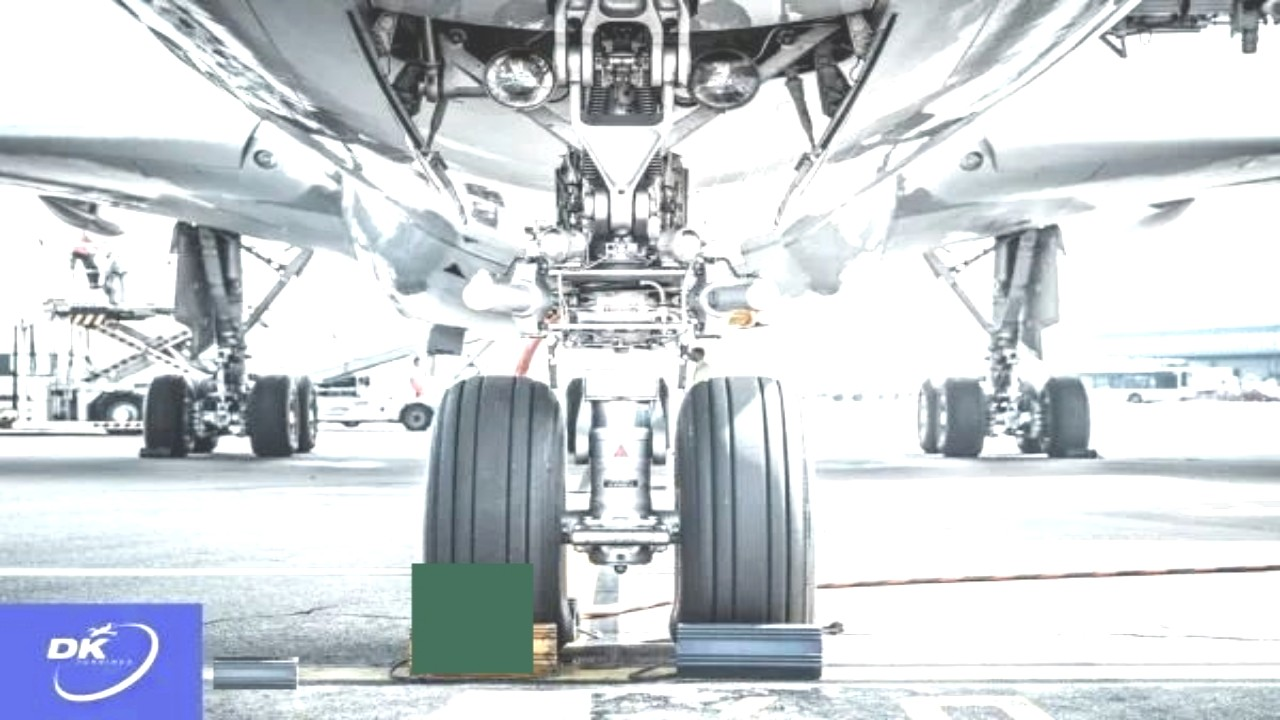chock: (401, 619, 562, 681), (677, 618, 826, 678), (213, 657, 299, 689), (1045, 445, 1103, 463), (136, 445, 190, 460)
wheel: (670, 374, 817, 675), (416, 376, 565, 650), (141, 373, 220, 455), (245, 373, 314, 455), (1024, 374, 1090, 457), (915, 374, 981, 455), (1009, 380, 1050, 454), (88, 390, 147, 434), (186, 377, 220, 452), (913, 376, 945, 452), (290, 376, 318, 452), (563, 374, 587, 459), (649, 374, 670, 457), (399, 401, 433, 430)
